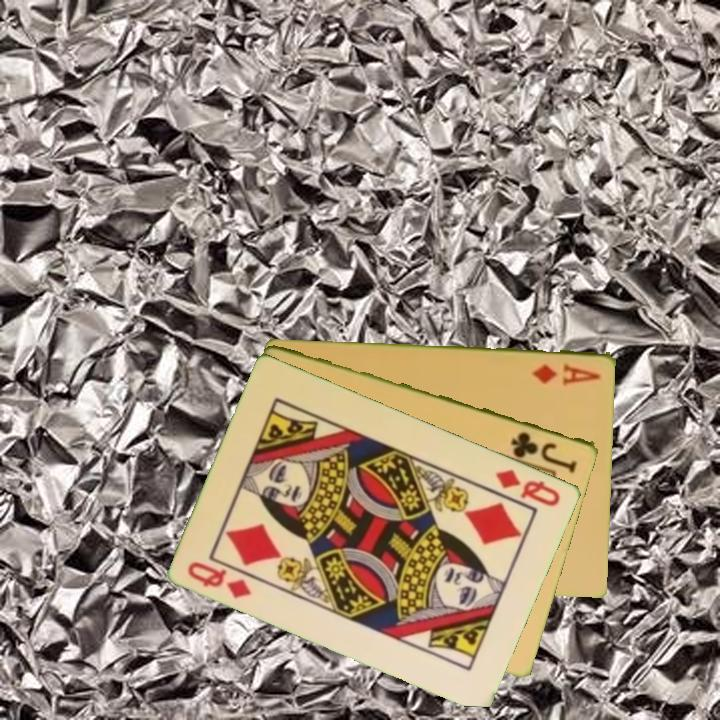Ad: (529, 359, 603, 387)
Jc: (507, 428, 581, 475)
Qd: (491, 465, 564, 510), (184, 557, 256, 601)
